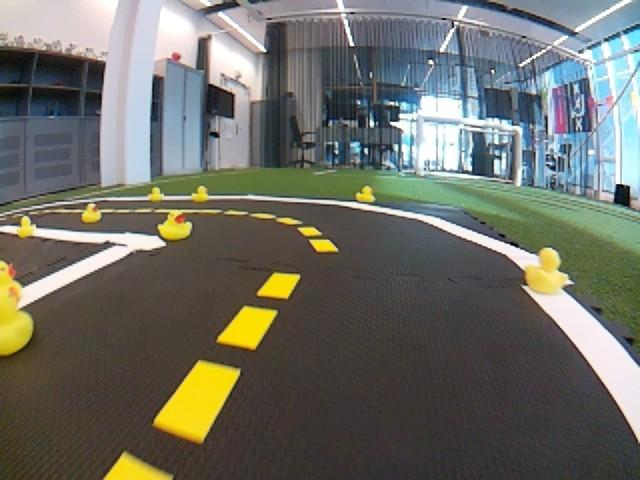Duckies: (0, 282, 30, 358), (524, 248, 568, 295), (157, 209, 192, 240), (0, 260, 22, 302), (15, 217, 36, 237), (81, 205, 101, 222), (192, 185, 210, 203), (355, 186, 374, 202), (148, 188, 163, 202)
